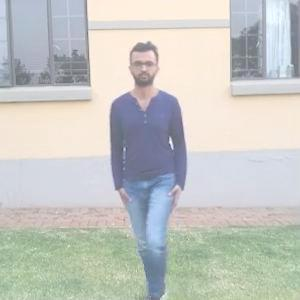follow: (107, 44, 184, 299)
